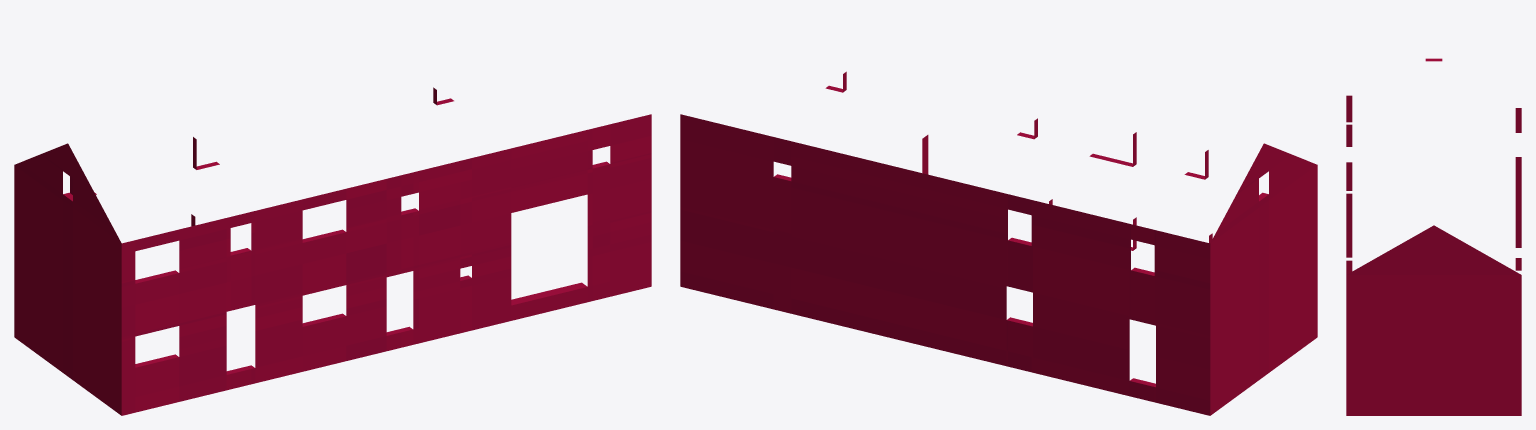
Rendered from SM_Bld_033_Masonry.glb.
3 renders of one model, left to right at view 1: azimuth 30°, elevation 25°; view 2: azimuth 150°, elevation 25°; view 3: azimuth 270°, elevation 25°, orthographic. The views are drawn at different scales.
Visible parts, largest first — view 1: SM_Bld_033_Masonry; view 2: SM_Bld_033_Masonry; view 3: SM_Bld_033_Masonry.
Part boxes in pixels (x1,y1,x2,y2): SM_Bld_033_Masonry: (14, 87, 651, 415); SM_Bld_033_Masonry: (680, 71, 1317, 415); SM_Bld_033_Masonry: (1346, 58, 1521, 415).
Bounding box in the file's own units: 18 × 7.58 × 6.32.
